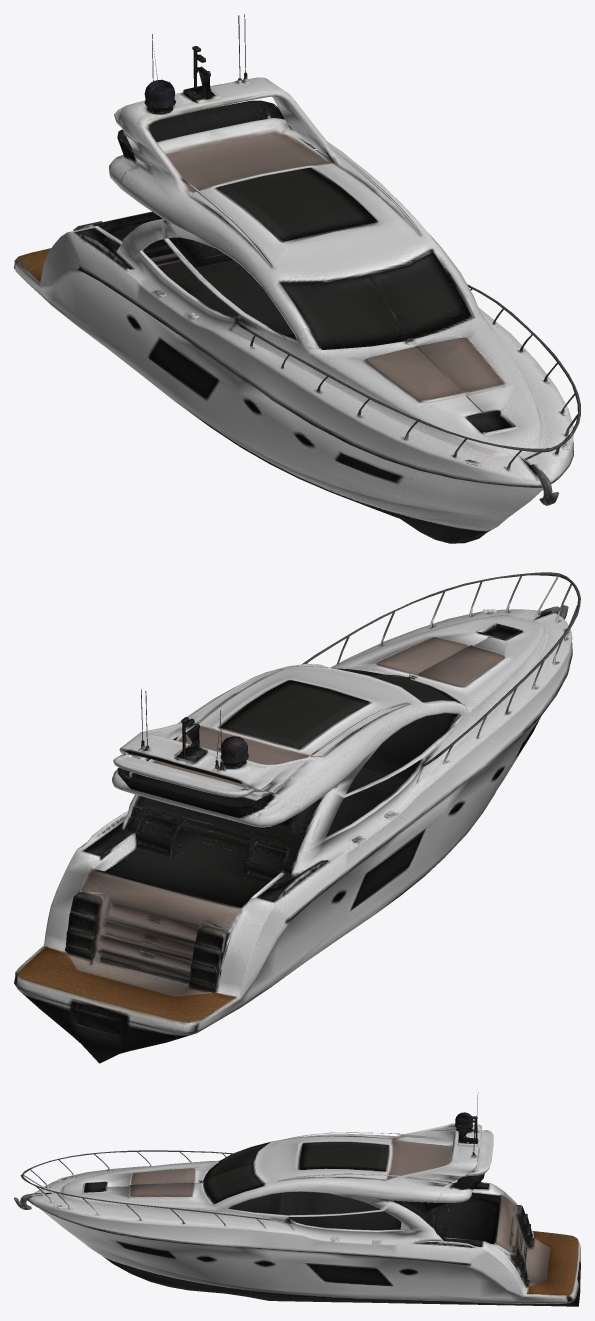
Rendered from yacht.glb.
3 renders of one model, top to bottom at view 1: azimuth 30°, elevation 25°; view 2: azimuth 150°, elevation 25°; view 3: azimuth 270°, elevation 25°, orthographic. The views are drawn at different scales.
Parts seen in each view (by area): view 1: tripo_node_1e274f97-ded2-408e-b6fb-9c335d66b566; view 2: tripo_node_1e274f97-ded2-408e-b6fb-9c335d66b566; view 3: tripo_node_1e274f97-ded2-408e-b6fb-9c335d66b566.
Boxes of the visible parts, left/top/right/bottom form: tripo_node_1e274f97-ded2-408e-b6fb-9c335d66b566: left=14, top=14, right=580, bottom=543; tripo_node_1e274f97-ded2-408e-b6fb-9c335d66b566: left=14, top=572, right=580, bottom=1063; tripo_node_1e274f97-ded2-408e-b6fb-9c335d66b566: left=14, top=1092, right=580, bottom=1306.
Bounding box in the file's own units: 0.2944 × 0.3901 × 0.9995.
1 material, 1 textured.
